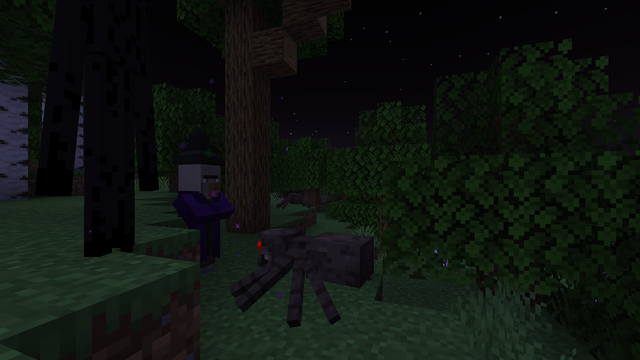araignees: (235, 219, 361, 322), (277, 191, 309, 209)
endermens: (46, 0, 167, 264)
sorcieres: (178, 159, 225, 277)
